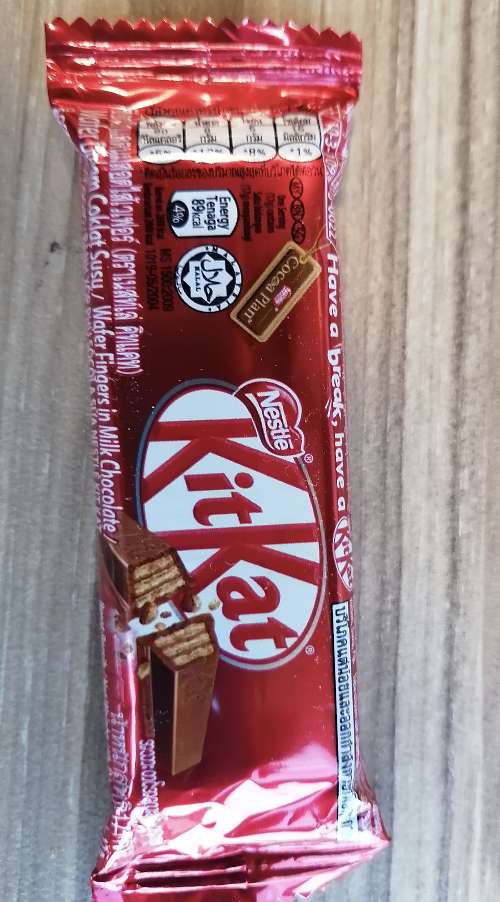Kitkat: (67, 42, 354, 841)
